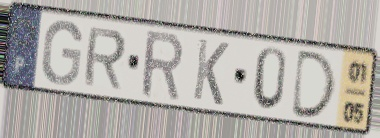0: (249, 45, 288, 114)
D: (289, 48, 339, 121)
G: (39, 18, 85, 87)
K: (190, 36, 231, 109)
R: (140, 28, 185, 103), (80, 25, 129, 92)
